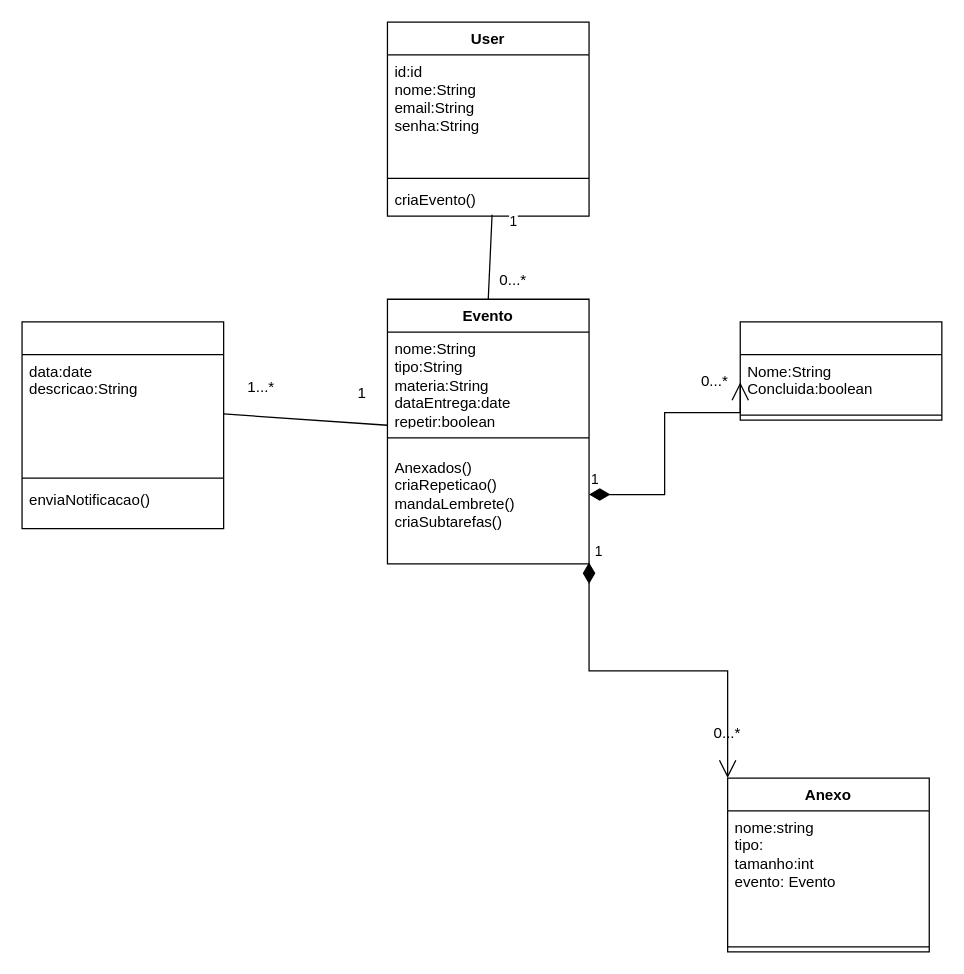
The diagram is 964 pixels wide and 974 high, and some of its shapes have lost their labels. Each missing label, with the box of its shape:
Lembrete: (21, 321, 224, 529)
Subtarefa: (739, 321, 942, 420)
